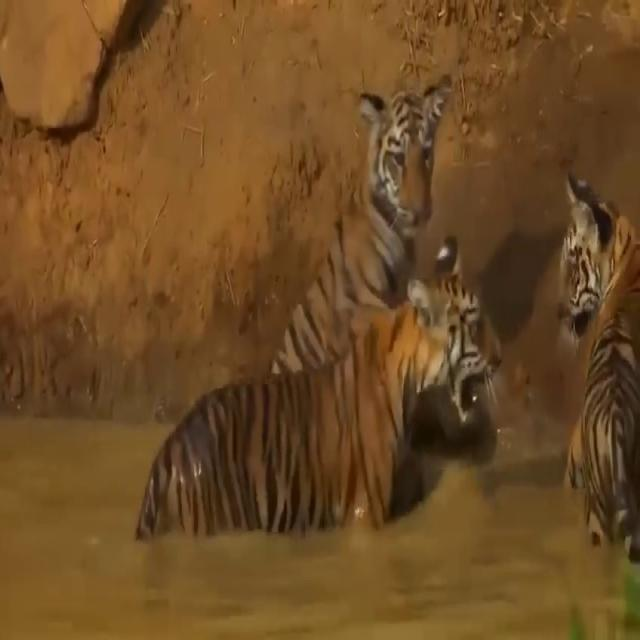tiger: (134, 229, 500, 541), (273, 64, 454, 385), (550, 167, 640, 564)
